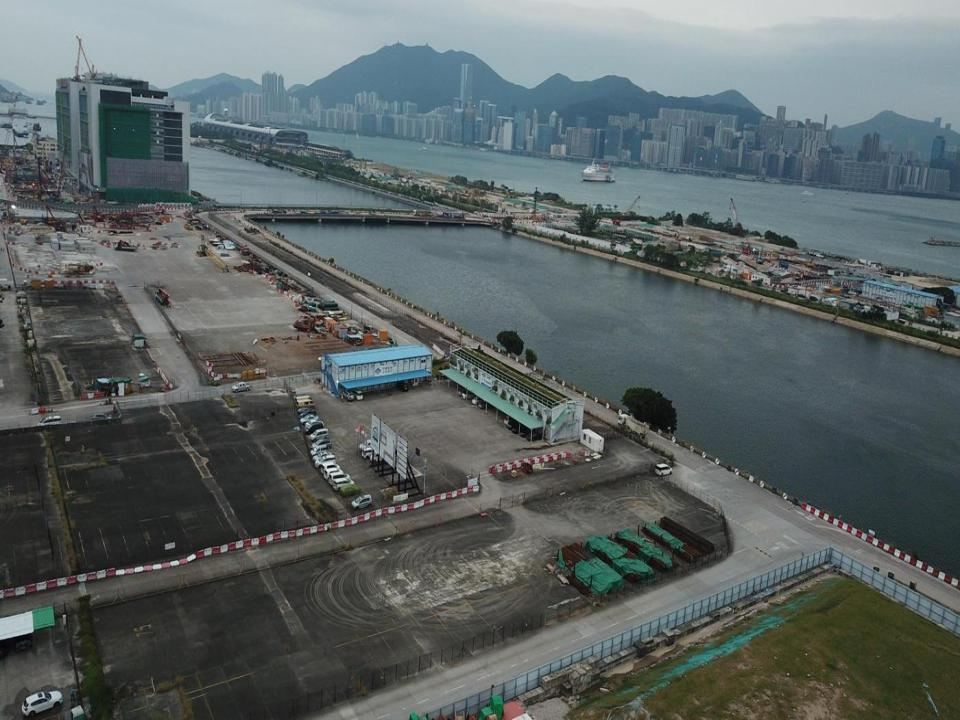car: (20, 689, 64, 714), (37, 414, 67, 430), (328, 469, 350, 487), (351, 493, 372, 510), (369, 446, 388, 464), (89, 413, 113, 427), (320, 461, 340, 476), (314, 454, 334, 469), (357, 437, 377, 452), (311, 437, 332, 451), (513, 414, 527, 435), (333, 478, 355, 491), (309, 427, 328, 442), (323, 468, 344, 481), (506, 412, 520, 431), (340, 483, 359, 496), (299, 413, 318, 426), (361, 445, 378, 459), (520, 416, 531, 437), (527, 420, 538, 441), (312, 450, 331, 462), (304, 422, 322, 434), (310, 445, 326, 457), (298, 410, 317, 420), (502, 407, 513, 424), (296, 406, 316, 415), (472, 392, 485, 405), (478, 396, 492, 408), (461, 388, 475, 399), (394, 380, 408, 391), (350, 389, 362, 400), (343, 389, 354, 400), (304, 419, 317, 428), (457, 386, 468, 395)
truck: (616, 409, 650, 438), (230, 379, 252, 394)
van: (655, 460, 673, 477), (294, 393, 314, 408), (296, 398, 316, 410)
